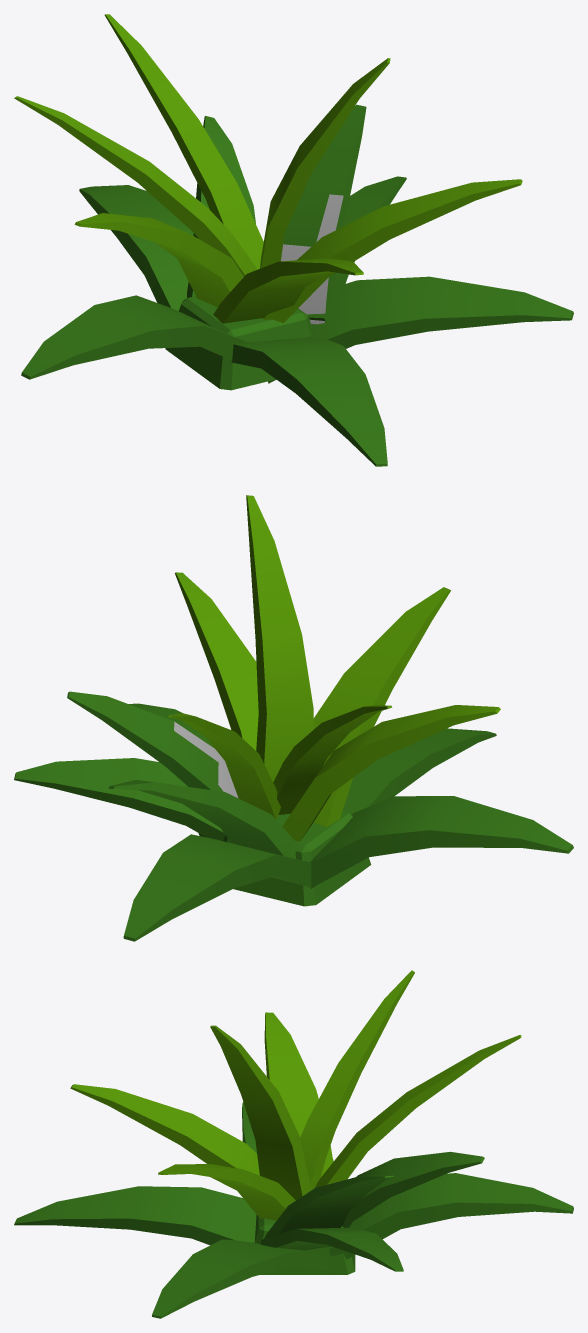
File: PLANT-MAYA.fbx
3 renders of one model, top to bottom at view 1: azimuth 30°, elevation 25°; view 2: azimuth 150°, elevation 25°; view 3: azimuth 270°, elevation 25°, orthographic. The views are drawn at different scales.
Visible parts, largest first — view 1: polySurface11; view 2: polySurface11; view 3: polySurface11.
Part boxes in pixels (<box>): polySurface11: <box>14,14,573,466</box>; polySurface11: <box>14,495,573,941</box>; polySurface11: <box>14,970,573,1318</box>.
Size of what is drawn, in the model's own units: 5.57 by 3.45 by 6.39.
